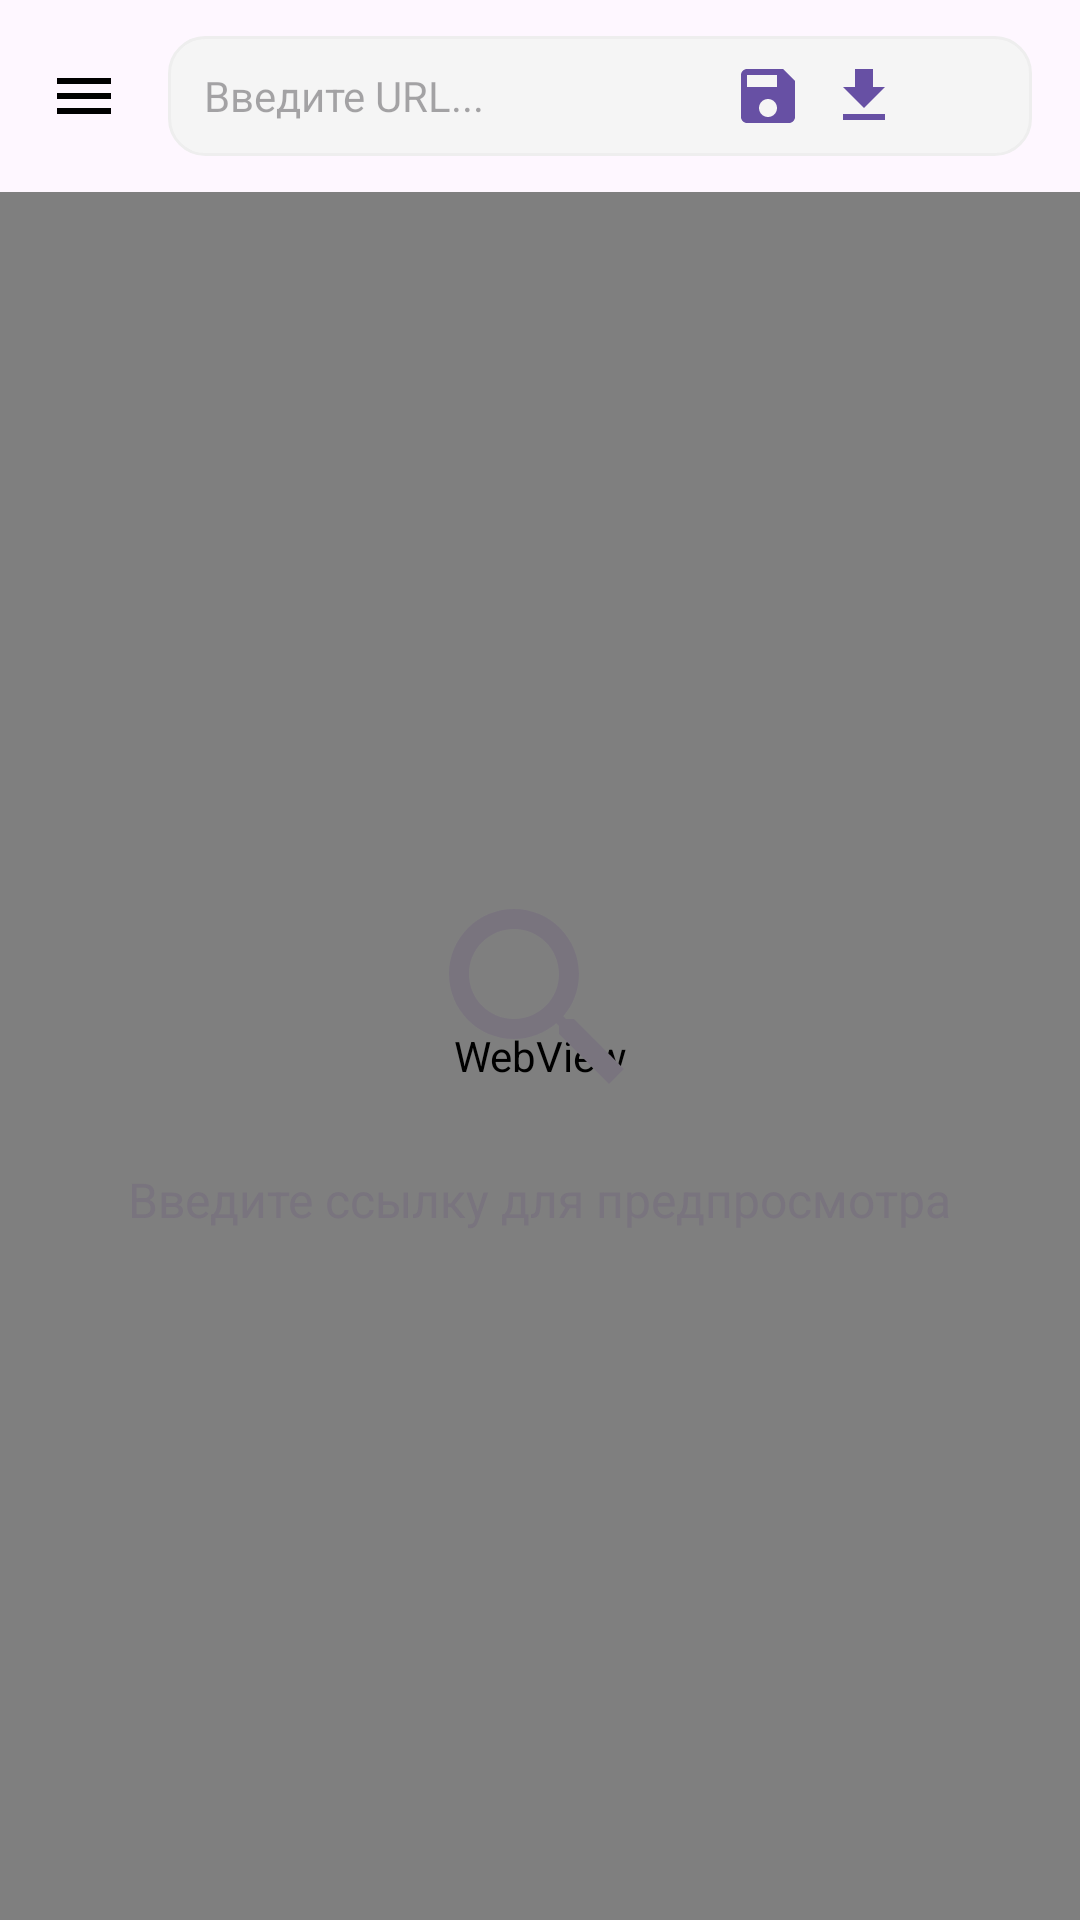

Icons on this 1080px×1920px Android screen, each with the point to tap as [x,y]:
download: [864,94]
save: [768,96]
